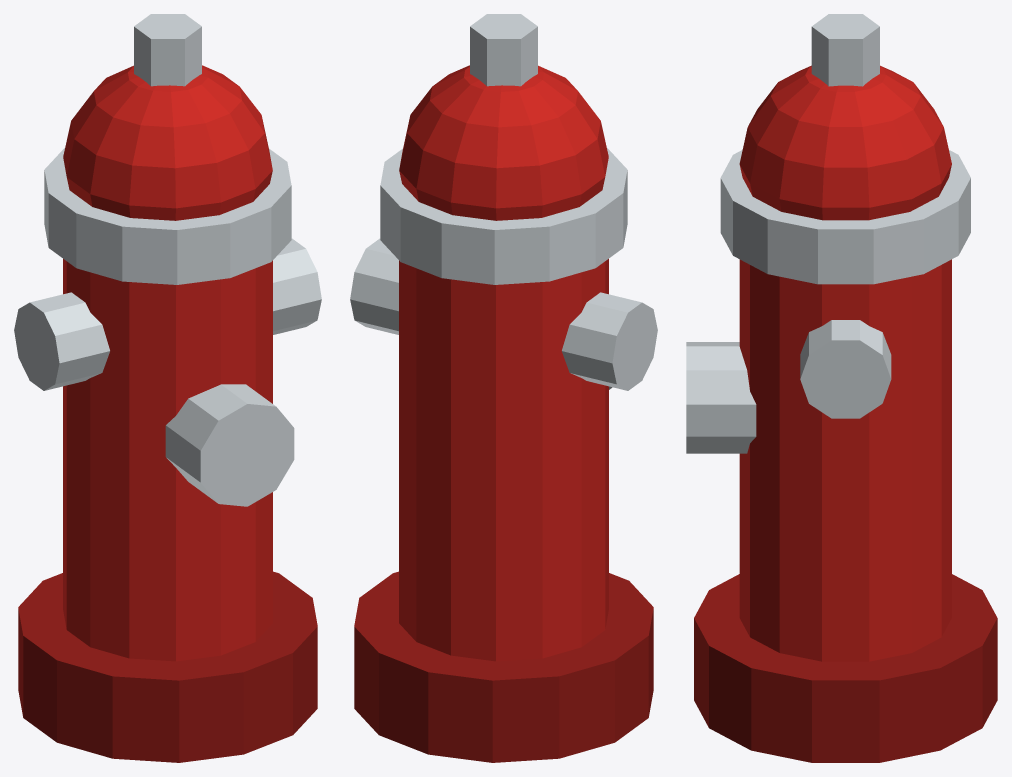
Rendered from fire_hydrant.glb.
3 renders of one model, left to right at view 1: azimuth 30°, elevation 25°; view 2: azimuth 150°, elevation 25°; view 3: azimuth 270°, elevation 25°, orthographic.
Visible parts, largest first — view 1: HydrantBody, HydrantBase, HydrantDome, HydrantCollar, FrontNozzle, SideNozzles, HydrantNut; view 2: HydrantBody, HydrantBase, HydrantDome, HydrantCollar, SideNozzles, HydrantNut; view 3: HydrantBody, HydrantBase, HydrantDome, HydrantCollar, SideNozzles, FrontNozzle, HydrantNut.
Part boxes in pixels (x1=…): HydrantBody: x1=63, y1=259, x2=272, y2=661; HydrantBase: x1=18, y1=571, x2=317, y2=762; HydrantDome: x1=63, y1=65, x2=272, y2=220; HydrantCollar: x1=44, y1=148, x2=291, y2=284; FrontNozzle: x1=165, y1=384, x2=294, y2=506; SideNozzles: x1=14, y1=238, x2=321, y2=390; HydrantNut: x1=134, y1=14, x2=201, y2=86; HydrantBody: x1=399, y1=259, x2=608, y2=661; HydrantBase: x1=354, y1=571, x2=653, y2=762; HydrantDome: x1=399, y1=65, x2=608, y2=220; HydrantCollar: x1=380, y1=148, x2=627, y2=284; SideNozzles: x1=350, y1=238, x2=657, y2=390; HydrantNut: x1=470, y1=14, x2=537, y2=86; HydrantBody: x1=739, y1=259, x2=951, y2=661; HydrantBase: x1=694, y1=574, x2=997, y2=762; HydrantDome: x1=739, y1=65, x2=951, y2=220; HydrantCollar: x1=720, y1=150, x2=970, y2=284; SideNozzles: x1=800, y1=320, x2=891, y2=418; FrontNozzle: x1=686, y1=342, x2=756, y2=453; HydrantNut: x1=811, y1=14, x2=879, y2=86.
Size of the model in its own units: 0.4 by 0.98 by 0.41.
